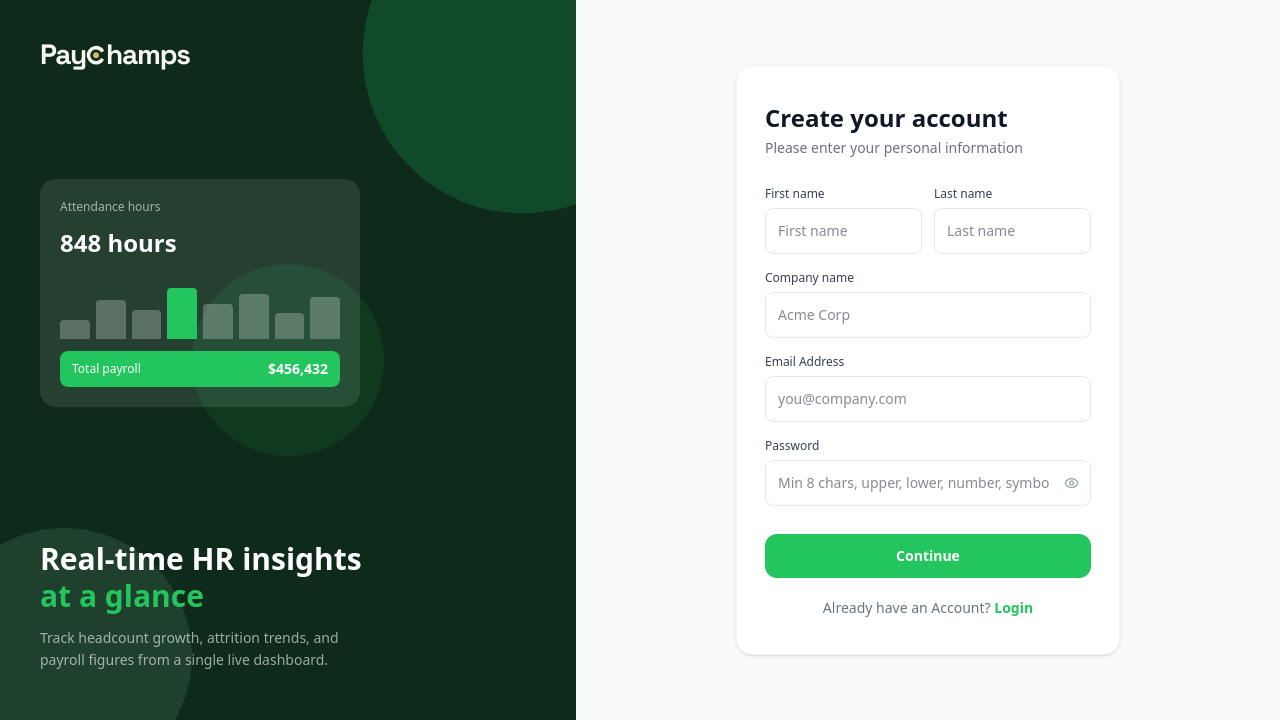
it: Signup page › shows error when name is missing
Click the button "Continue": (928,556) [765,534,1091,578]
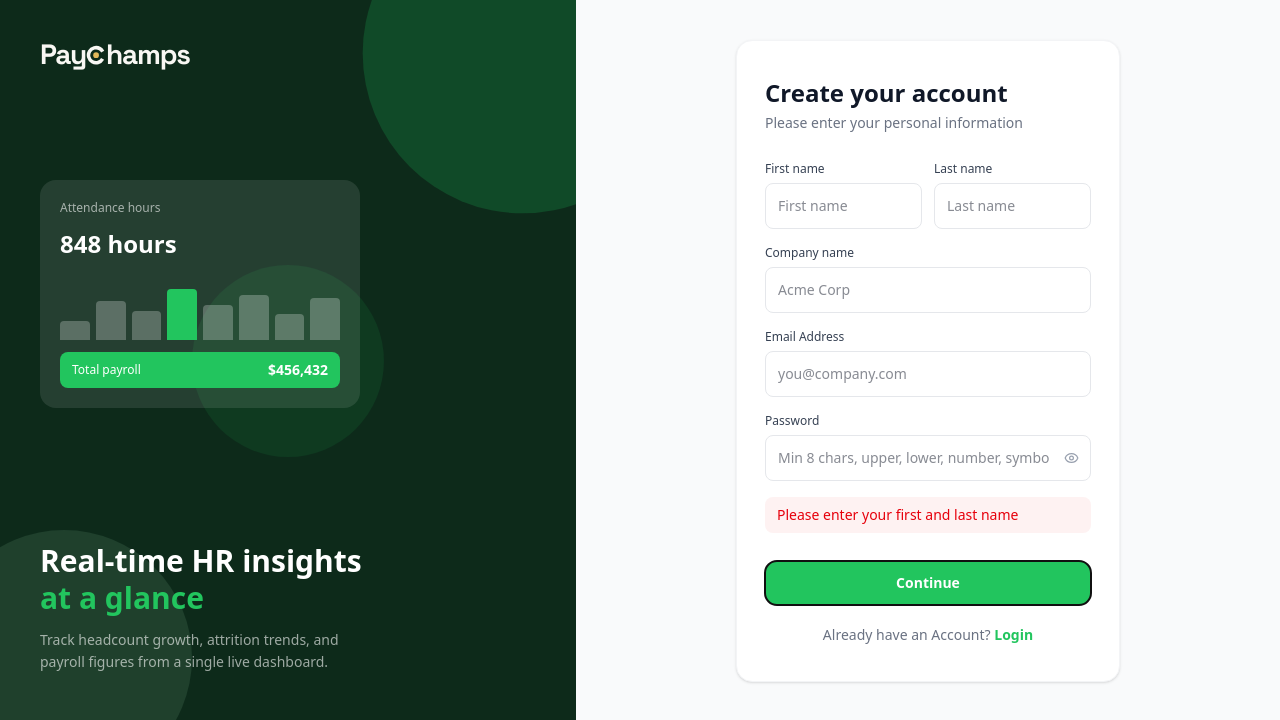
Check: the text "Please enter your first and last name" is shown, box [765,497,1091,533]
